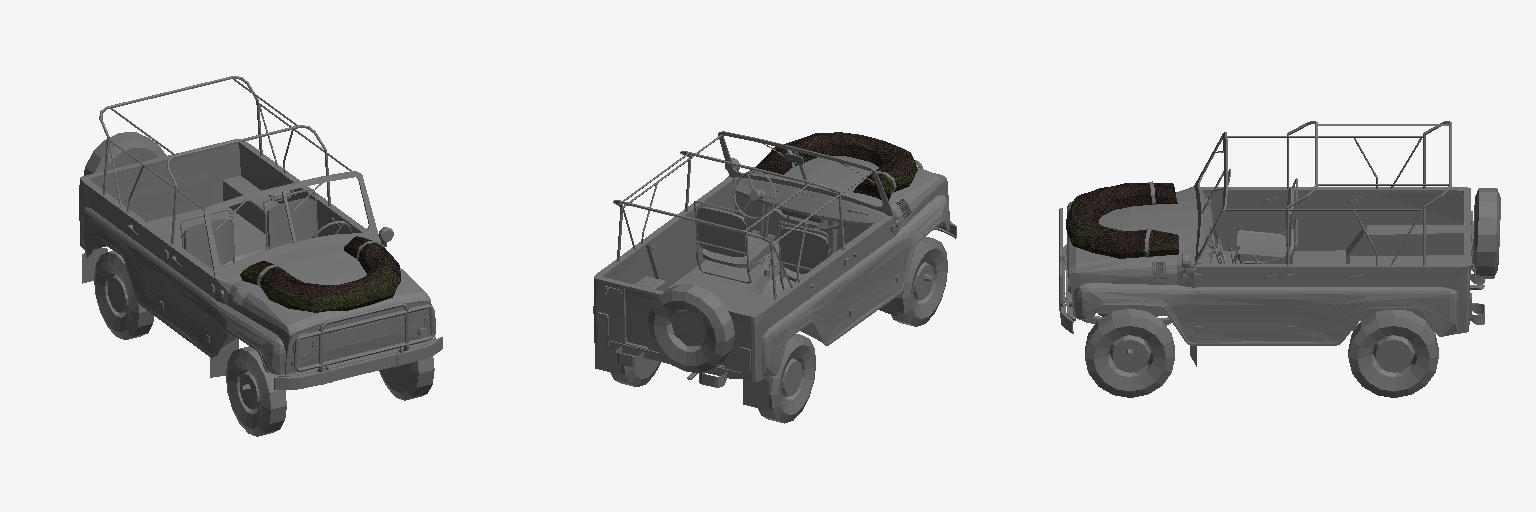
3 views of the same model, side by side, from view 1: azimuth 30°, elevation 25°; view 2: azimuth 150°, elevation 25°; view 3: azimuth 270°, elevation 25° (orthographic).
Parts seen in each view (by area): view 1: UAZ_469_v2; view 2: UAZ_469_v2; view 3: UAZ_469_v2.
Boxes of the visible parts, box(x1,y1,x2,y2) form: UAZ_469_v2: box(79, 76, 442, 436); UAZ_469_v2: box(593, 131, 956, 423); UAZ_469_v2: box(1059, 121, 1500, 397).
Bounding box in the file's own units: 1.84 × 2.02 × 3.94.
Materials: 7 (2 with a texture image).